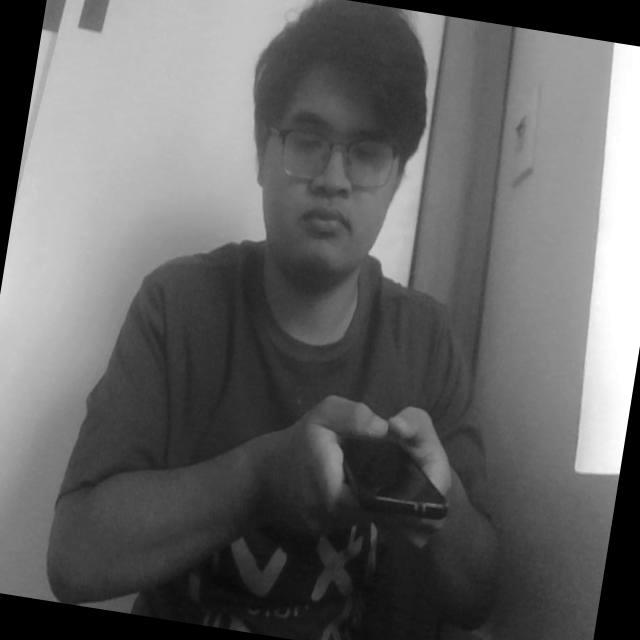phone: (306, 388, 476, 548)
